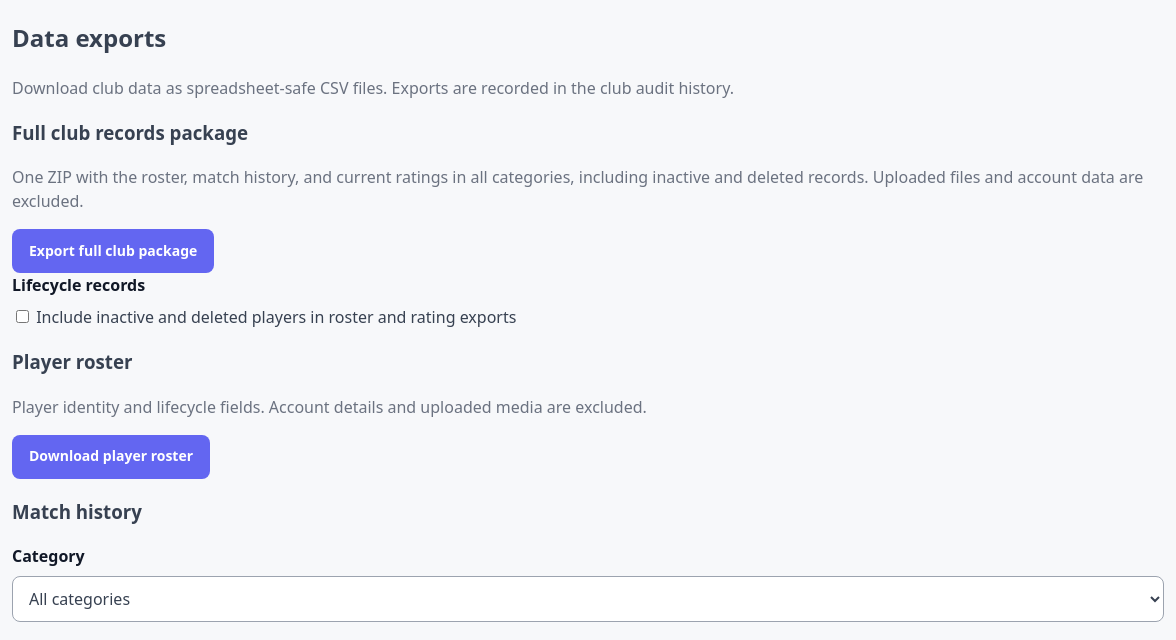
Scenario: DataExportPanel › shows a useful error without starting another export
The image size is (1176, 640).
Click the button "Download player roster".
click(111, 457)  # box [12,435,210,479]
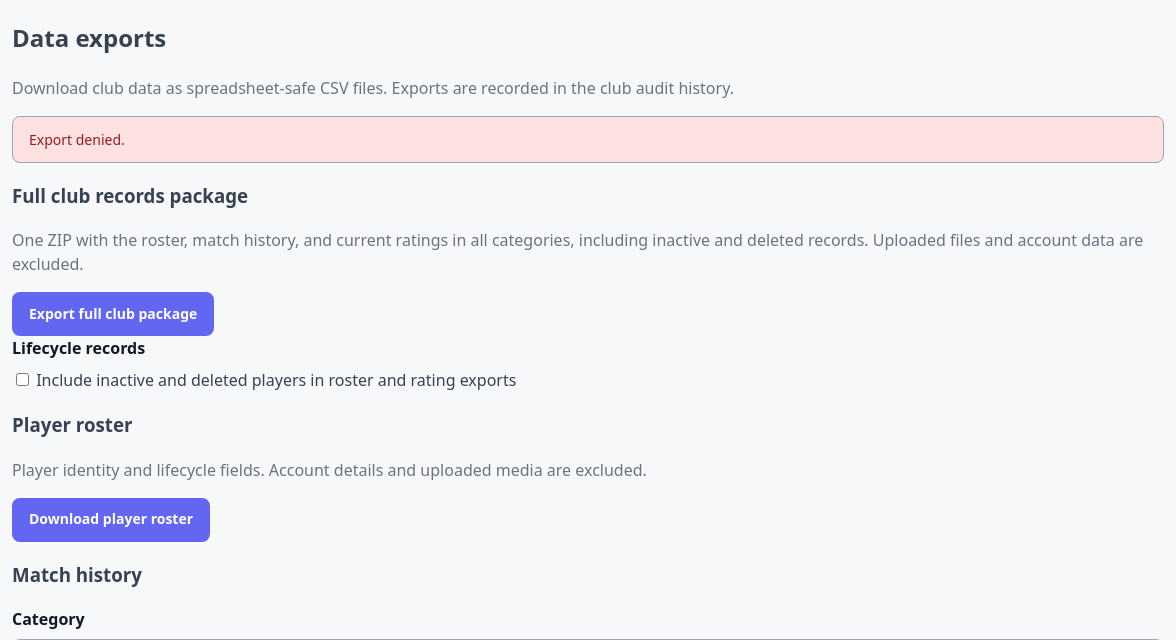
expect the text "Export denied." is shown: met, box [12,116,1164,163]
